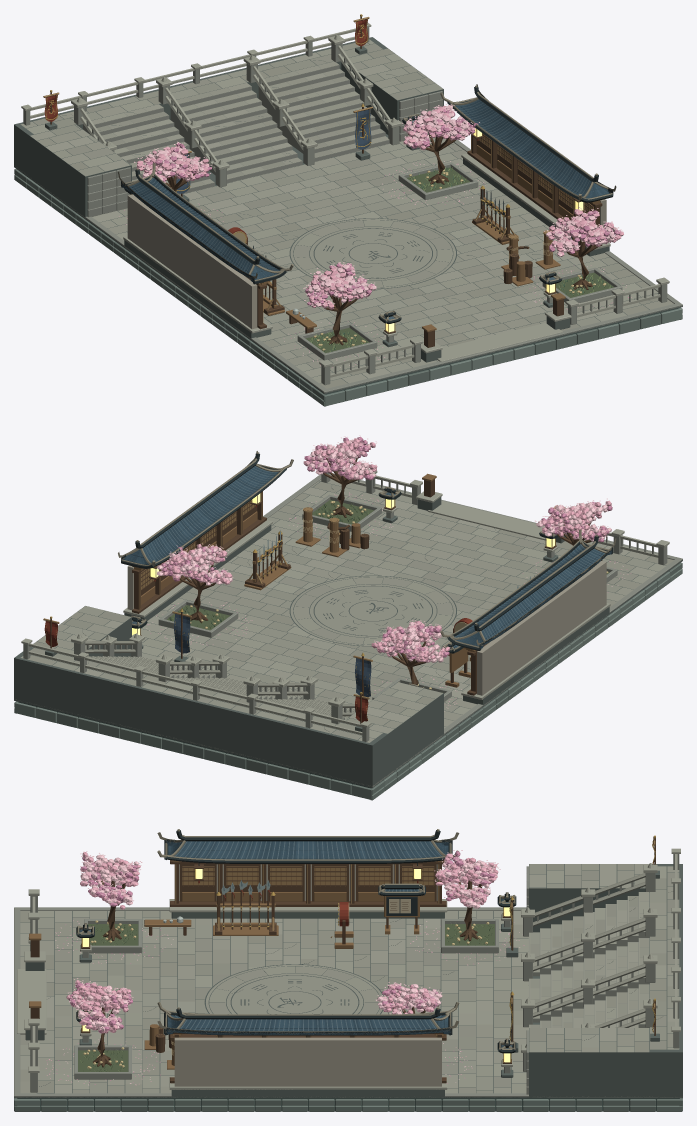
File: training.glb
3 renders of one model, top to bottom at view 1: azimuth 30°, elevation 25°; view 2: azimuth 150°, elevation 25°; view 3: azimuth 270°, elevation 25°, orthographic. The views are drawn at different scales.
Parts seen in each view (by area): view 1: Training_paving_Training_matte, Training_north_terrace_Training_matte, Training_alchemy_edge_Training_matte, Training_kitchen_edge_Training_matte, Training_medallion_Training_matte, Training_terrain_Training_matte, Training_north_rails_Training_matte, Training_stairs_center_Training_matte, Training_stairs_east_Training_matte, Training_stairs_west_Training_matte, Training_south_rails_Training_matte, Training_gate_threshold_Training_matte (+11 smaller); view 2: Training_paving_Training_matte, Training_north_terrace_Training_matte, Training_alchemy_edge_Training_matte, Training_kitchen_edge_Training_matte, Training_terrain_Training_matte, Training_medallion_Training_matte, Training_north_rails_Training_matte, Training_gate_threshold_Training_matte, Training_tree_se_Training_blossom, Training_tree_nw_Training_blossom, Training_tree_sw_Training_blossom, Training_tree_ne_Training_blossom (+12 smaller); view 3: Training_paving_Training_matte, Training_kitchen_edge_Training_matte, Training_alchemy_edge_Training_matte, Training_north_terrace_Training_matte, Training_terrain_Training_matte, Training_north_rails_Training_matte, Training_medallion_Training_matte, Training_stairs_center_Training_matte, Training_stairs_west_Training_matte, Training_gate_threshold_Training_matte, Training_stairs_east_Training_matte, Training_tree_nw_Training_blossom (+15 smaller).
Part boxes in pixels (left/top/right/bottom): Training_paving_Training_matte: left=14, top=133, right=682, bottom=394; Training_north_terrace_Training_matte: left=14, top=37, right=443, bottom=217; Training_alchemy_edge_Training_matte: left=118, top=163, right=293, bottom=338; Training_kitchen_edge_Training_matte: left=440, top=84, right=616, bottom=256; Training_medallion_Training_matte: left=289, top=218, right=456, bottom=288; Training_terrain_Training_matte: left=14, top=169, right=682, bottom=406; Training_north_rails_Training_matte: left=21, top=22, right=402, bottom=187; Training_stairs_center_Training_matte: left=170, top=83, right=302, bottom=183; Training_stairs_east_Training_matte: left=258, top=61, right=389, bottom=161; Training_stairs_west_Training_matte: left=83, top=104, right=214, bottom=194; Training_south_rails_Training_matte: left=319, top=277, right=669, bottom=385; Training_gate_threshold_Training_matte: left=421, top=293, right=571, bottom=362; Training_paving_Training_matte: left=14, top=473, right=682, bottom=788; Training_north_terrace_Training_matte: left=14, top=606, right=443, bottom=786; Training_alchemy_edge_Training_matte: left=440, top=529, right=616, bottom=705; Training_kitchen_edge_Training_matte: left=118, top=451, right=293, bottom=620; Training_terrain_Training_matte: left=14, top=562, right=682, bottom=800; Training_medallion_Training_matte: left=289, top=575, right=456, bottom=646; Training_north_rails_Training_matte: left=21, top=633, right=371, bottom=741; Training_gate_threshold_Training_matte: left=416, top=473, right=567, bottom=543; Training_tree_se_Training_blossom: left=303, top=435, right=377, bottom=480; Training_tree_nw_Training_blossom: left=371, top=620, right=450, bottom=662; Training_tree_sw_Training_blossom: left=535, top=498, right=612, bottom=542; Training_tree_ne_Training_blossom: left=157, top=543, right=233, bottom=585; Training_paving_Training_matte: left=14, top=907, right=682, bottom=1098; Training_kitchen_edge_Training_matte: left=157, top=1002, right=459, bottom=1096; Training_alchemy_edge_Training_matte: left=157, top=829, right=459, bottom=918; Training_north_terrace_Training_matte: left=526, top=864, right=682, bottom=1096; Training_terrain_Training_matte: left=14, top=1098, right=682, bottom=1111; Training_north_rails_Training_matte: left=521, top=848, right=680, bottom=1071; Training_medallion_Training_matte: left=204, top=964, right=383, bottom=1014; Training_stairs_center_Training_matte: left=529, top=938, right=649, bottom=1022; Training_stairs_west_Training_matte: left=529, top=892, right=649, bottom=976; Training_gate_threshold_Training_matte: left=17, top=933, right=46, bottom=1040; Training_stairs_east_Training_matte: left=529, top=984, right=649, bottom=1027; Training_tree_nw_Training_blossom: left=434, top=850, right=500, bottom=908.
Size of the model in its own units: 20 by 5 by 30.
